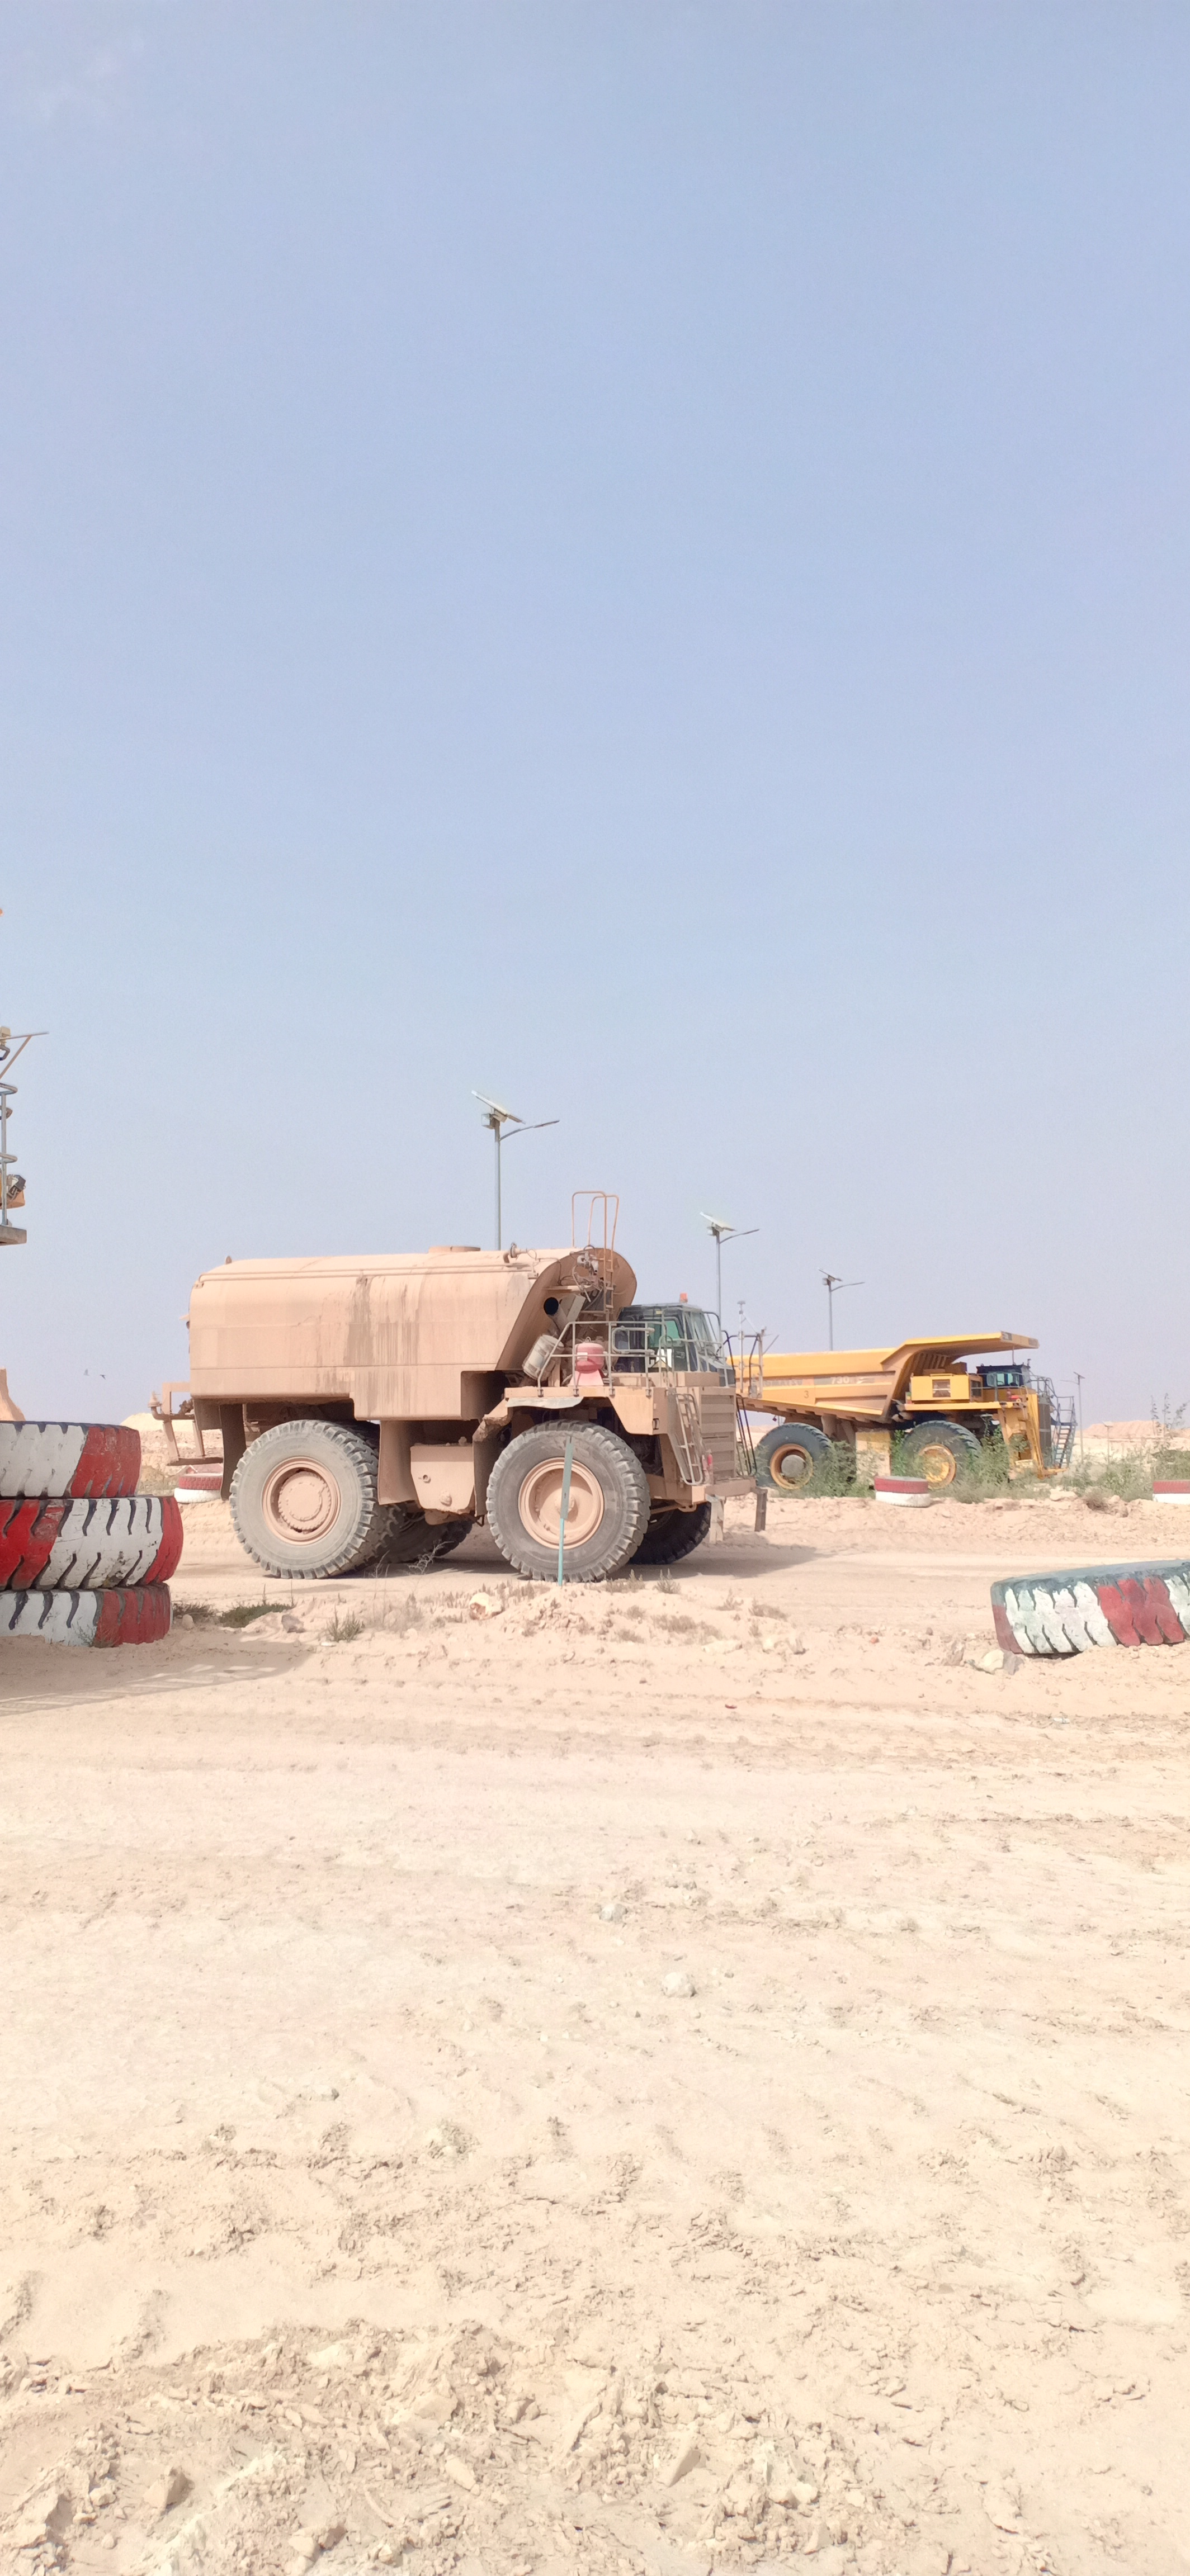camion: (695, 1316, 1116, 1553)
